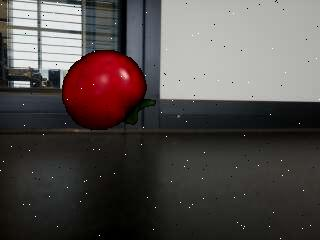Tomato: (62, 49, 156, 131)
